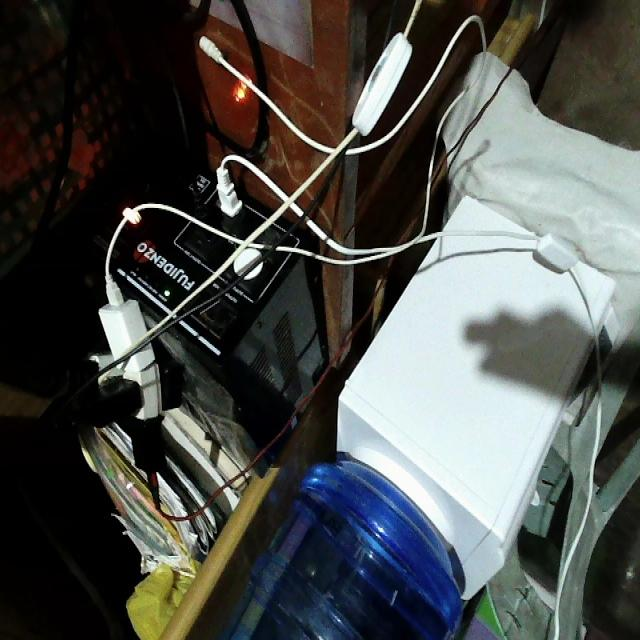-: (59, 288, 163, 465)
